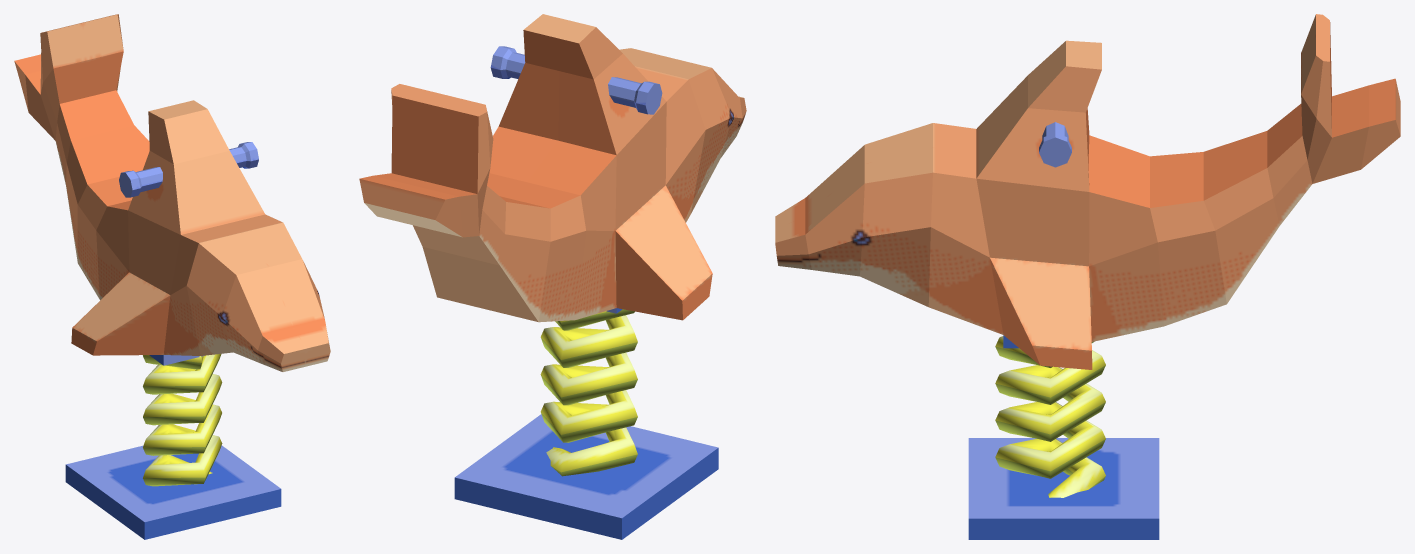
Rendered from dolphin_spring_rider.fbx.
The picture shows the model from 3 angles, left to right: view 1: azimuth 30°, elevation 25°; view 2: azimuth 150°, elevation 25°; view 3: azimuth 270°, elevation 25°; orthographic projection. The views are drawn at different scales.
Visible parts, largest first — view 1: dolphin-rider; view 2: dolphin-rider; view 3: dolphin-rider.
Boxes of the visible parts, box(x1,y1,x2,y2) form: dolphin-rider: box(14, 14, 330, 539); dolphin-rider: box(359, 14, 746, 539); dolphin-rider: box(775, 14, 1400, 539).
Bounding box in the file's own units: 60.25 × 109 × 130.
